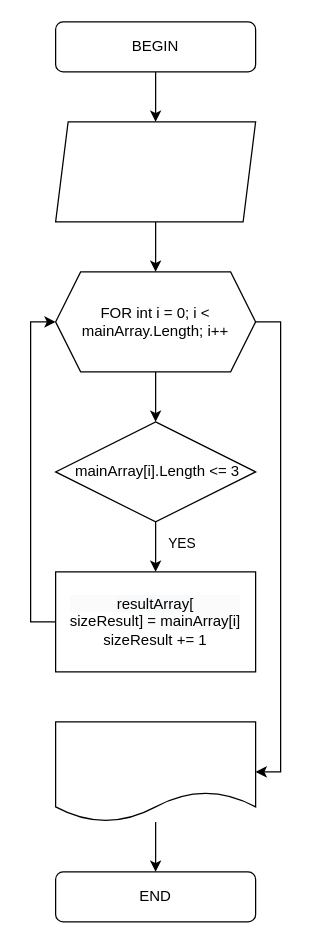
The diagram is 313 pixels wide and 944 high, and some of its shapes have lost their labels. Each missing label, with the centre of its shape:
mainArray = ["hello", "22", "world", ":-)"] resultArray = [] sizeResult = 0: [155,171]
OUTPUT resultArray: [155,771]
